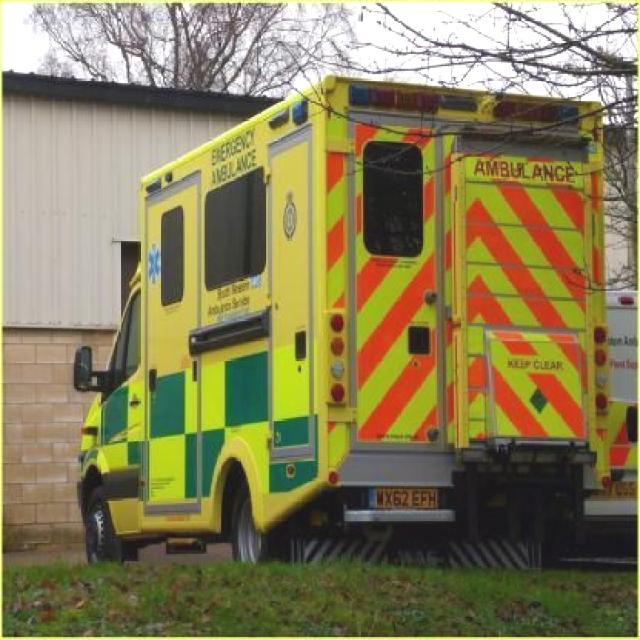Van: (86, 112, 601, 534)
